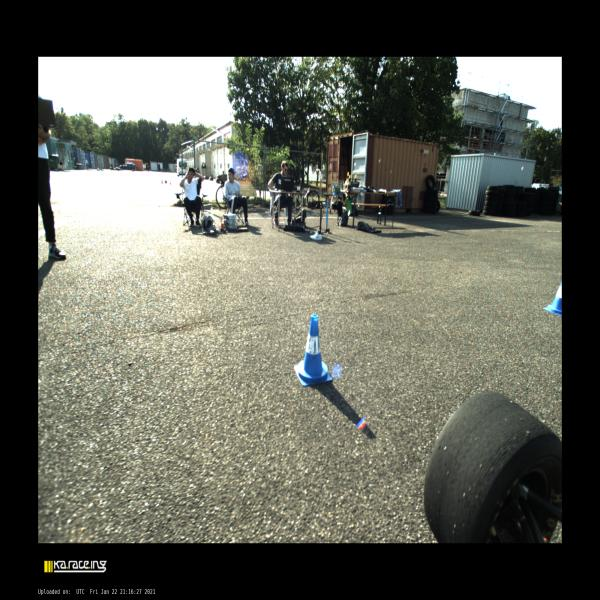blue_cone: (293, 314, 332, 386), (543, 281, 562, 316)
yellow_cone: (346, 172, 349, 182)
